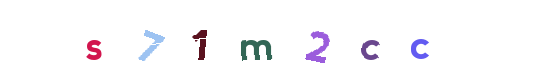1: (161, 0, 241, 80)
2: (233, 0, 313, 80)
7: (152, 0, 232, 80)
C: (311, 0, 391, 80), (314, 0, 394, 80)
M: (215, 0, 295, 80)
S: (54, 0, 134, 80)
